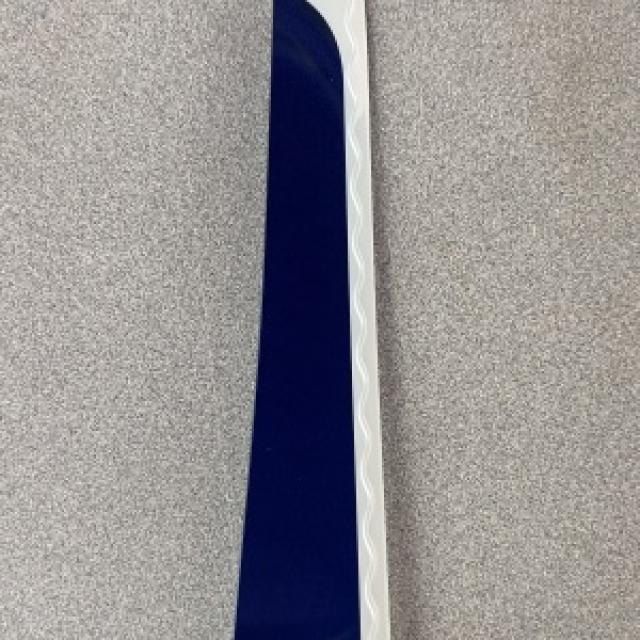healthy: (235, 0, 388, 638)
